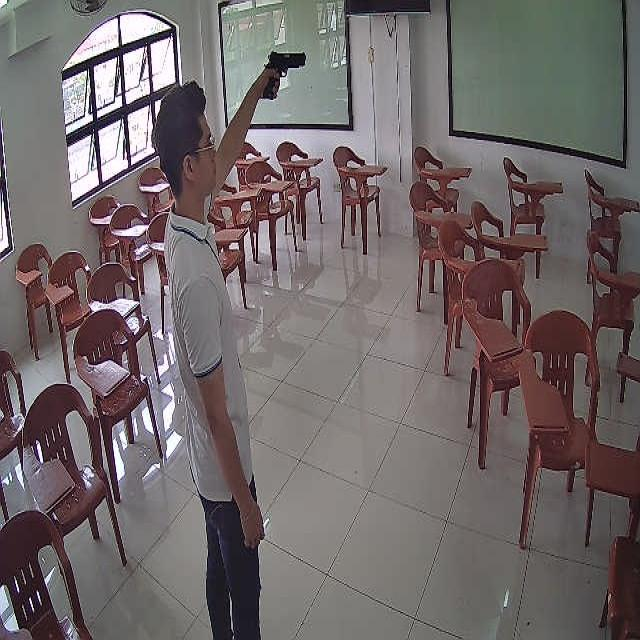pistol: (263, 51, 306, 97)
